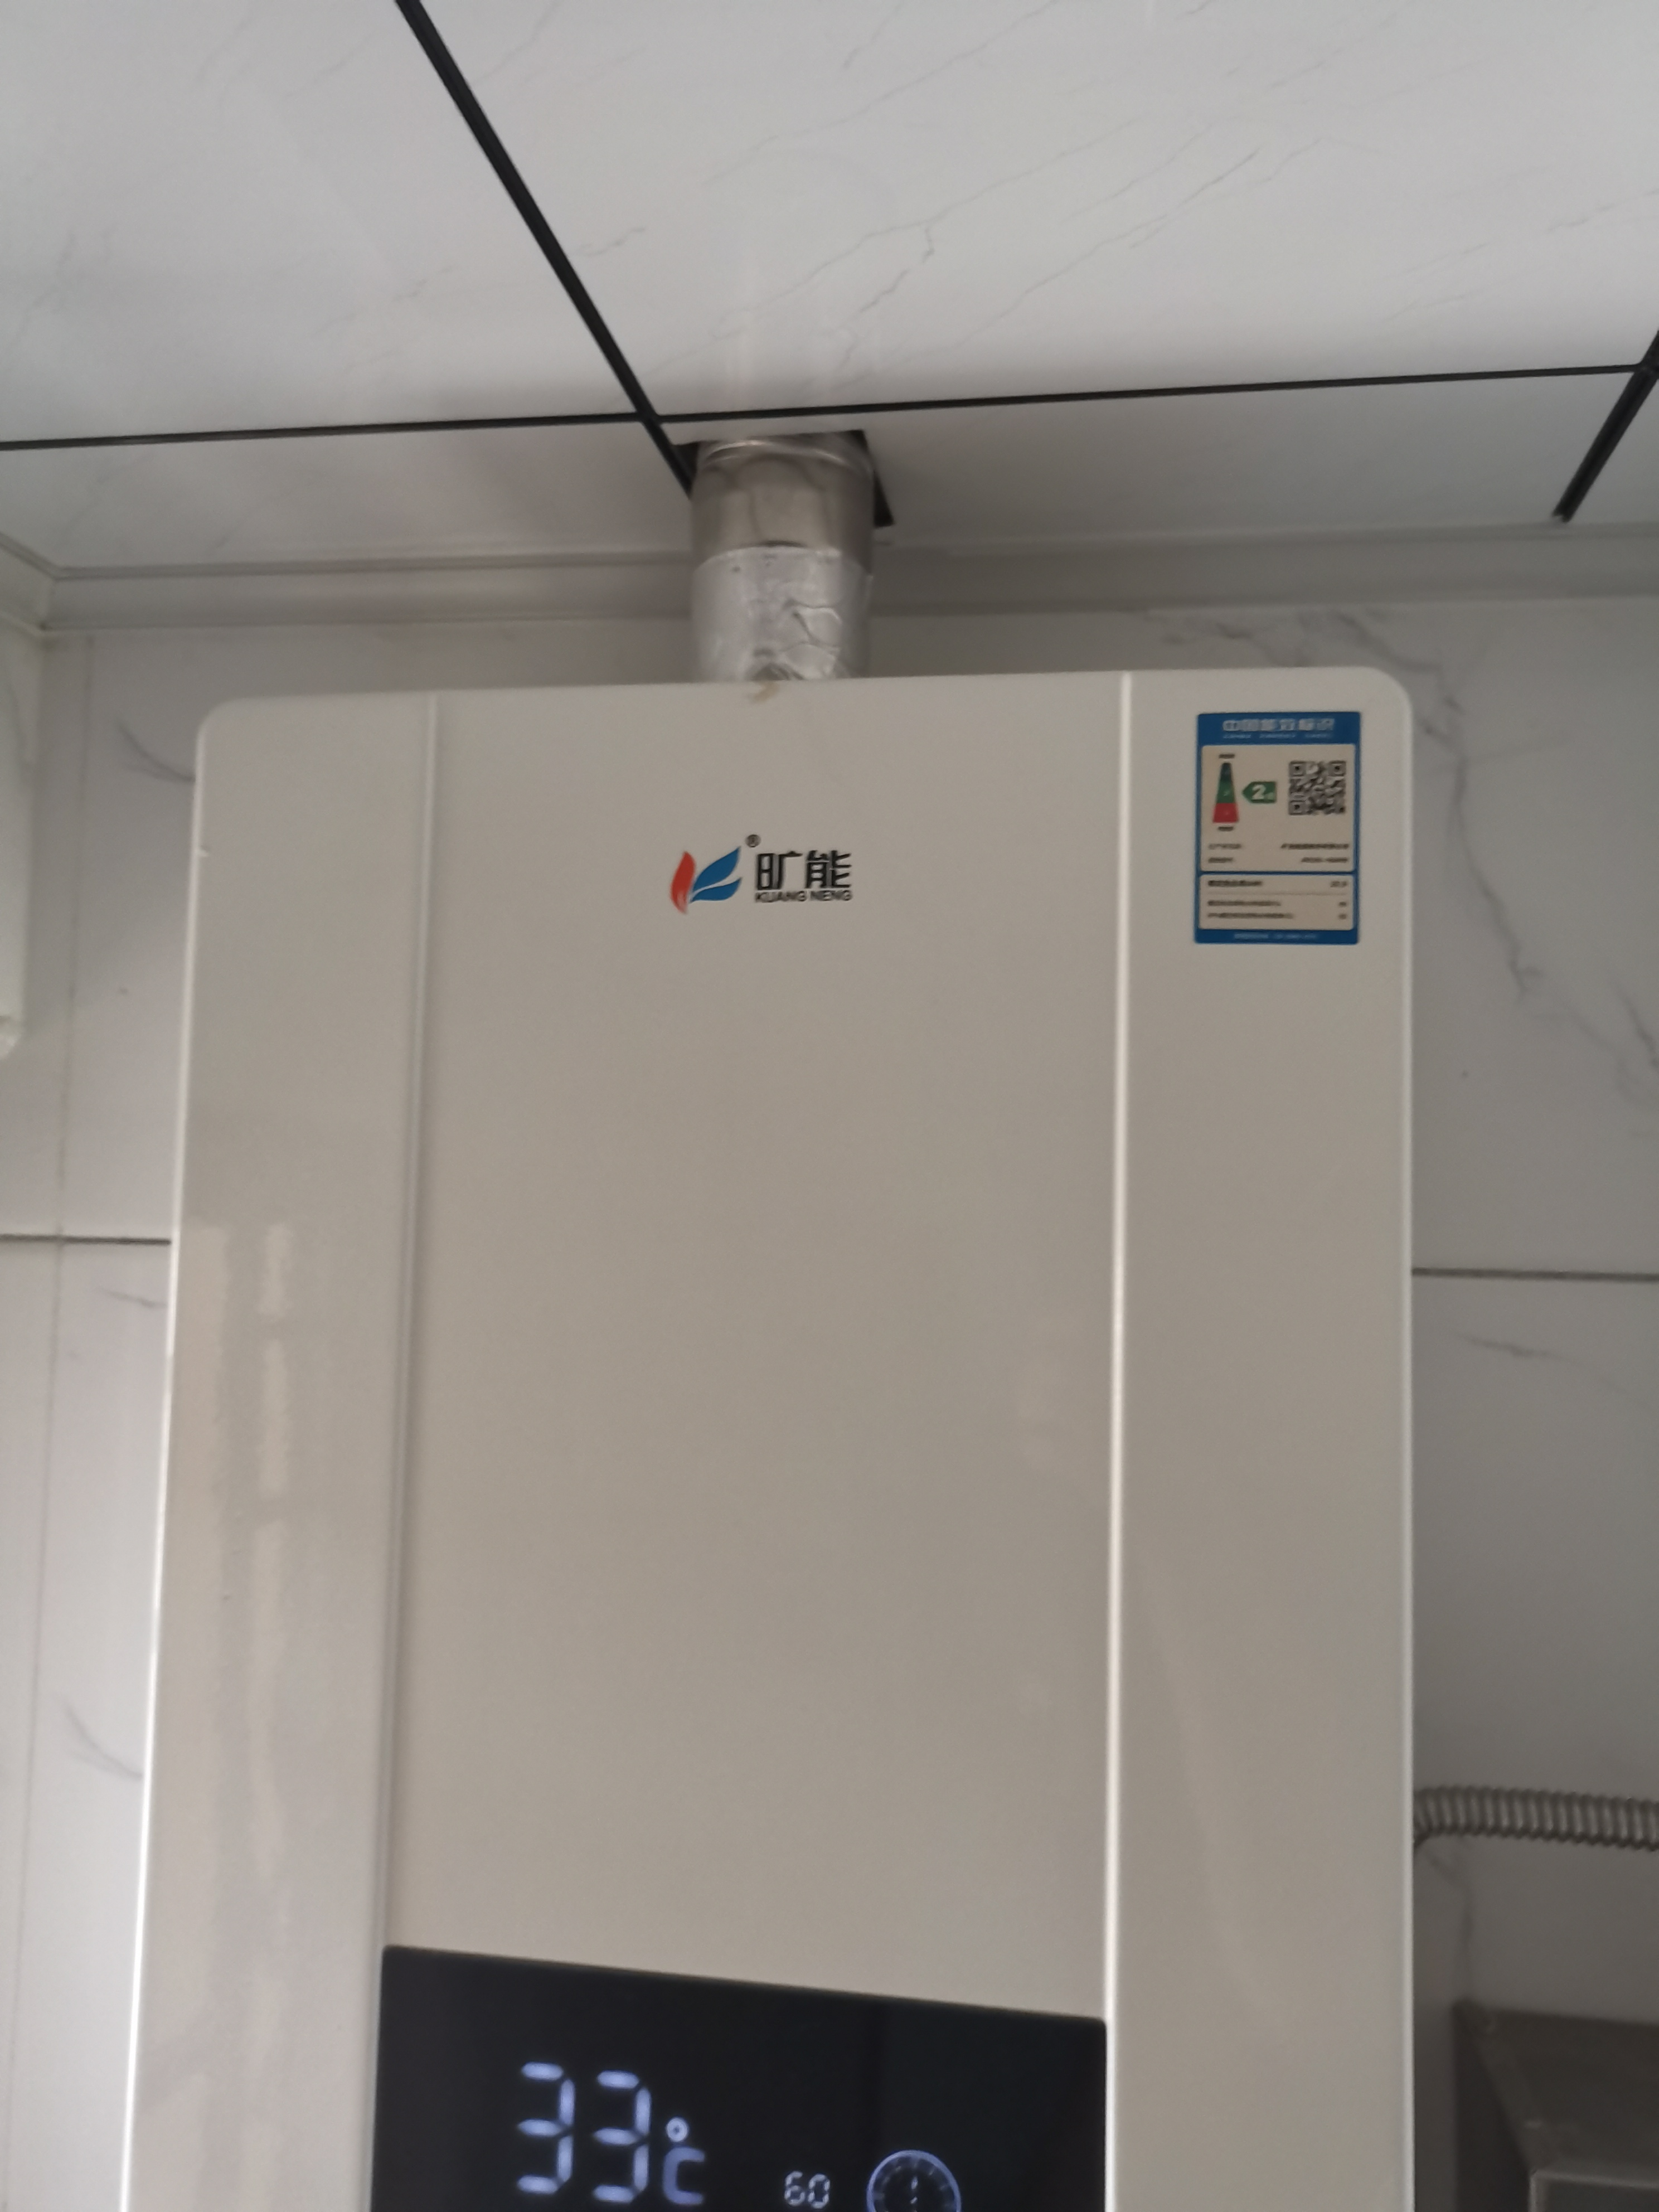loudou: (650, 824, 882, 927)
